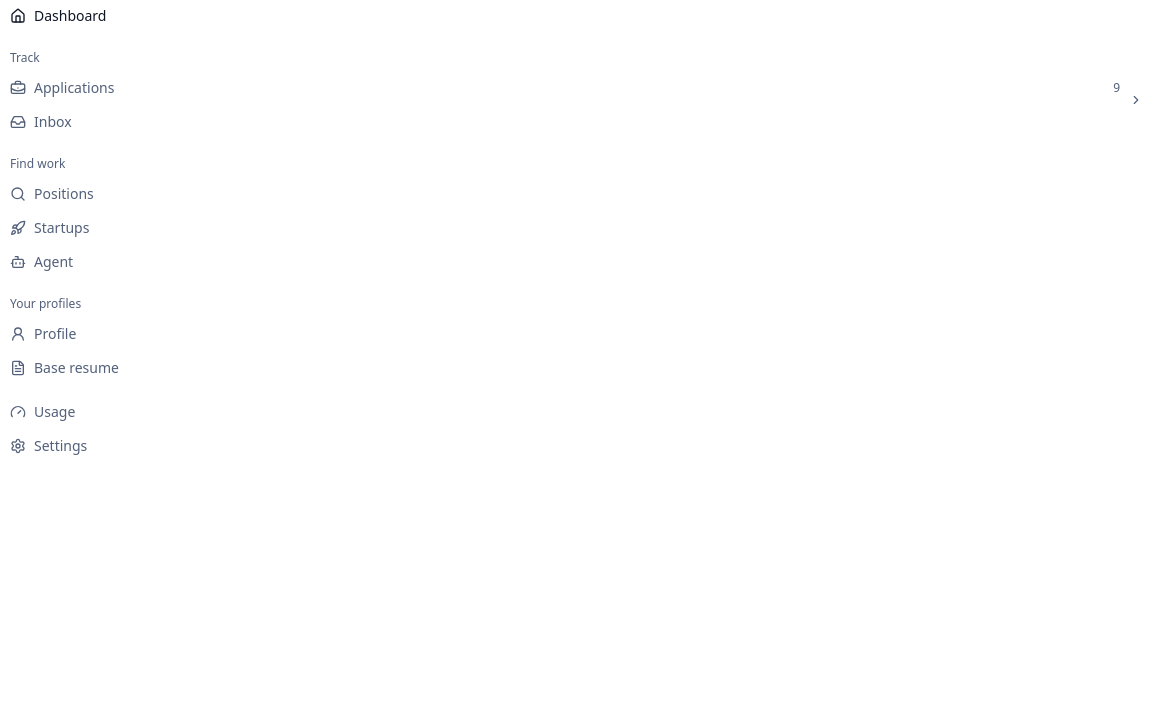
Scenario: NavLinks › statuses under Applications (E27-4) › hides and shows the statuses, and remembers it
Later steps or results of the test are not shown.
Step 1. Click the button named "Show statuses" → (1136, 100), box [1124,88,1148,112]
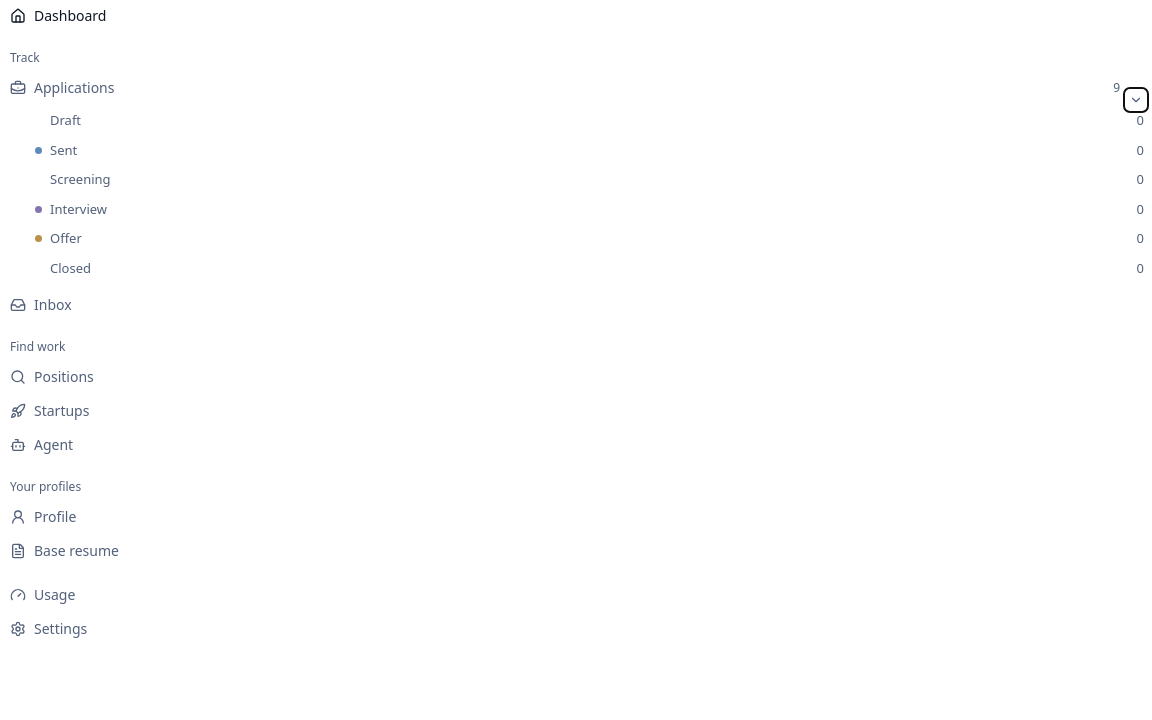
Expected: the list named "Applications by status" is shown, [18,106,1151,283]
